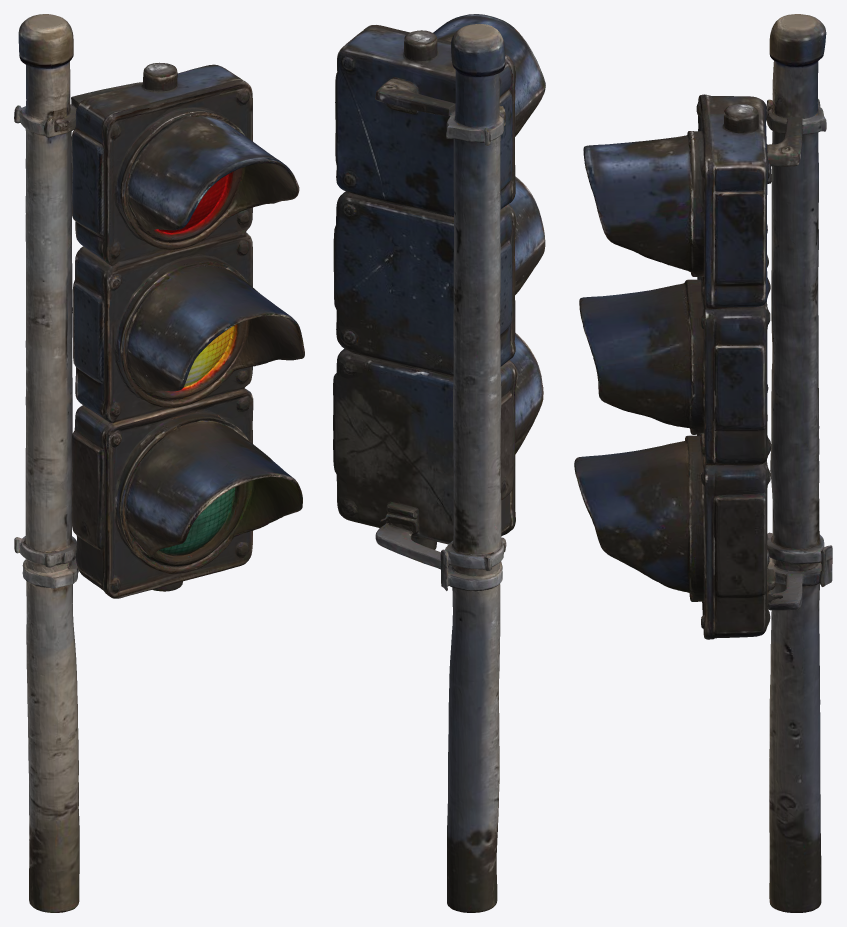
File: traffic_light.glb
3 renders of one model, left to right at view 1: azimuth 30°, elevation 25°; view 2: azimuth 150°, elevation 25°; view 3: azimuth 270°, elevation 25°, orthographic.
Visible parts, largest first — view 1: world; view 2: world; view 3: world.
Boxes of the visible parts, <box> form: world: <box>14,14,304,912</box>; world: <box>333,14,545,912</box>; world: <box>574,14,832,912</box>.
Size of the model in its own units: 0.4463 by 1.99 by 0.5298.
1 material, 1 textured.
